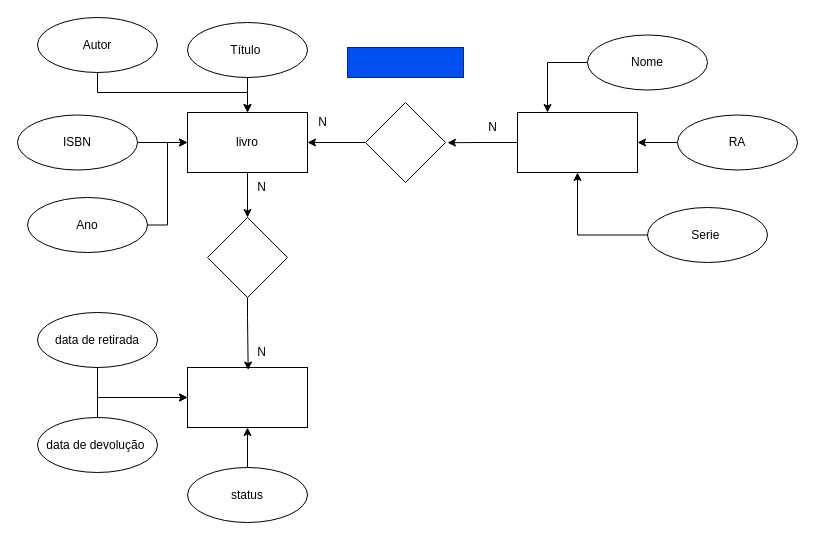
Some shapes in this 815 by 540 pixel diagram are drawn without their labels. Here are the shapes that lost their labels. From the top down, the box of each, then its label:
(346, 46, 464, 78): DER - BIBLIOTECA
(364, 102, 446, 182): pegar
(516, 112, 638, 172): aluno
(206, 216, 288, 298): tem
(186, 366, 308, 428): empréstimo
